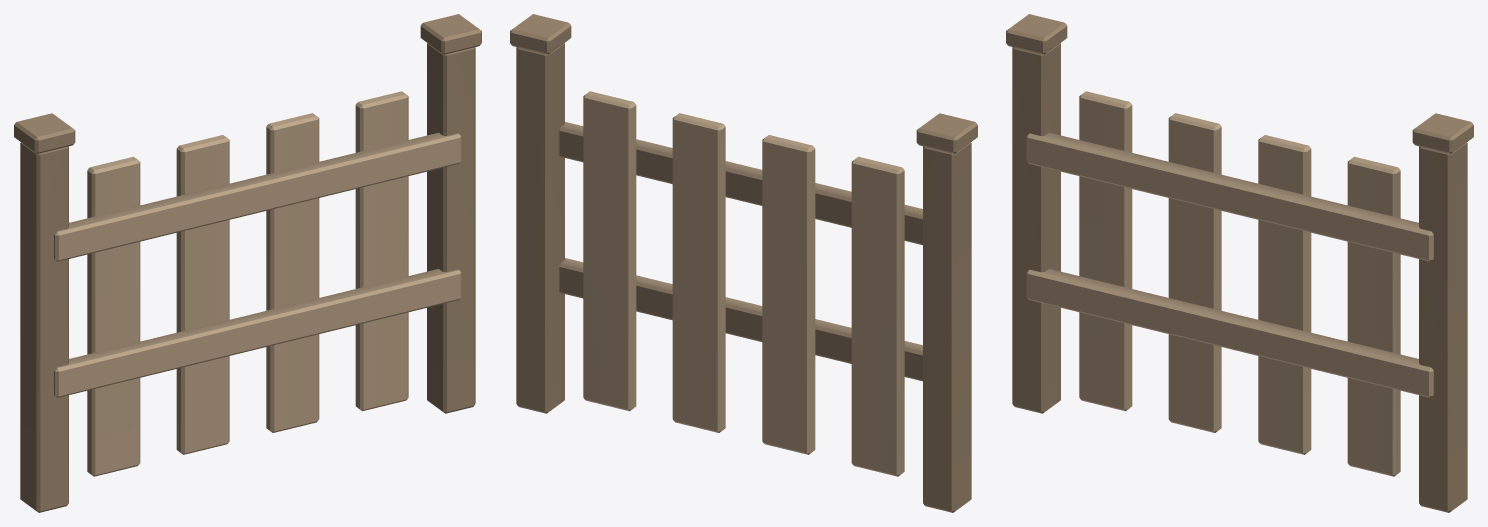
The model's file is fence_wood.glb.
The picture shows the model from 3 angles, left to right: view 1: azimuth 30°, elevation 25°; view 2: azimuth 150°, elevation 25°; view 3: azimuth 330°, elevation 25°; orthographic projection.
Size of the model in its own units: 1.1 by 0.89 by 0.1.
